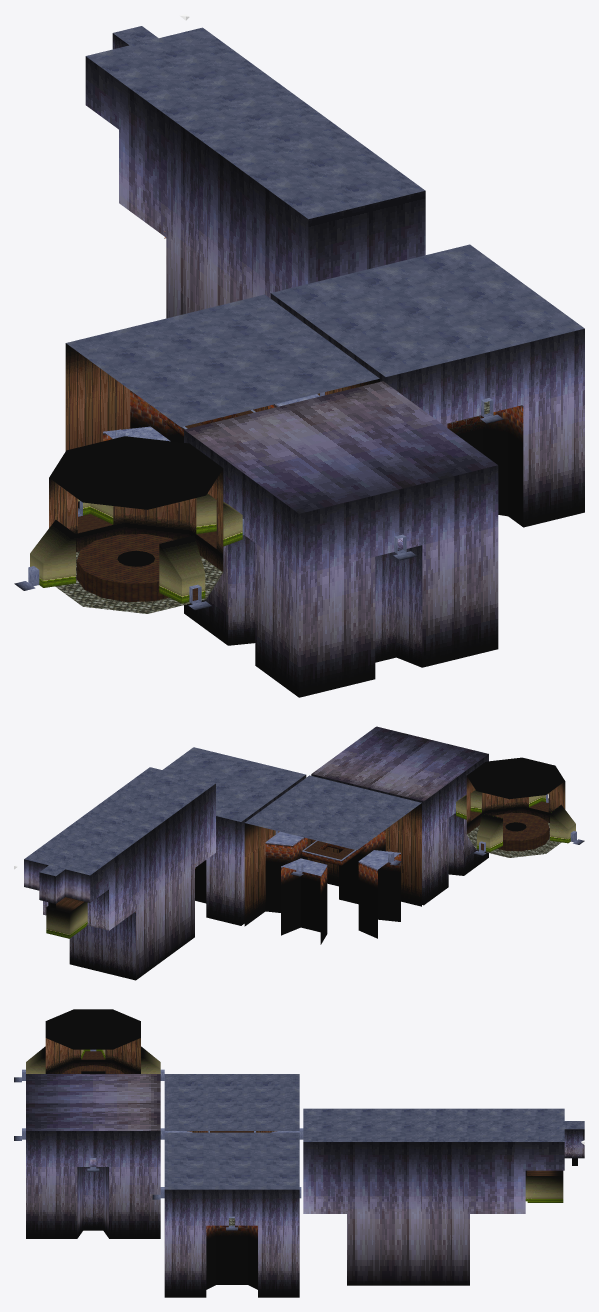
File: ex_l_map_all.glb
3 views of the same model, one above another, from view 1: azimuth 30°, elevation 25°; view 2: azimuth 150°, elevation 25°; view 3: azimuth 270°, elevation 25° (orthographic). The views are drawn at different scales.
Parts seen in each view (by area): view 1: ex_l_map_all; view 2: ex_l_map_all; view 3: ex_l_map_all.
Boxes of the visible parts, <box> form: ex_l_map_all: <box>14,14,584,697</box>; ex_l_map_all: <box>14,726,584,980</box>; ex_l_map_all: <box>14,1009,584,1297</box>.
Bounding box in the file's own units: 11 × 4.01 × 14.4.
Materials: 27 (23 with a texture image).
